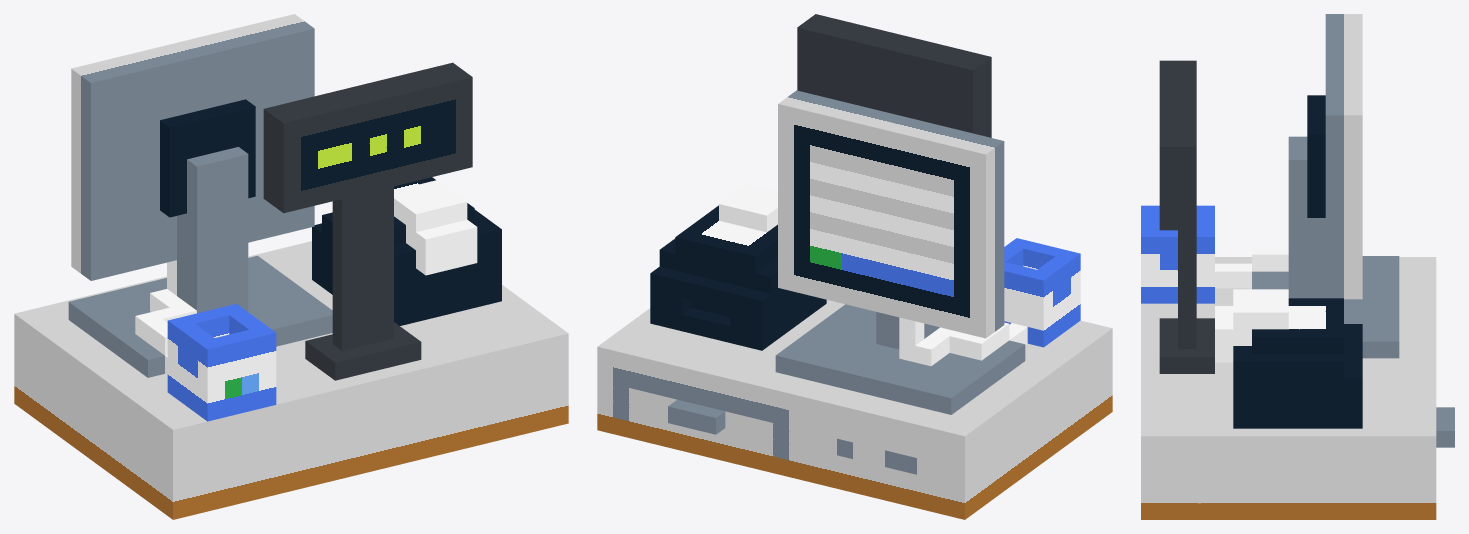
The model's file is 收银机.gltf.
3 renders of one model, left to right at view 1: azimuth 30°, elevation 25°; view 2: azimuth 150°, elevation 25°; view 3: azimuth 270°, elevation 25°, orthographic. The views are drawn at different scales.
Parts seen in each view (by area): view 1: Object; view 2: Object; view 3: Object.
Part boxes in pixels (x1,y1,x2,y2): Object: (14, 14, 568, 519); Object: (597, 14, 1112, 519); Object: (1141, 14, 1454, 519).
Size of the model in its own units: 23 by 20 by 17.
1 material, 1 textured.
